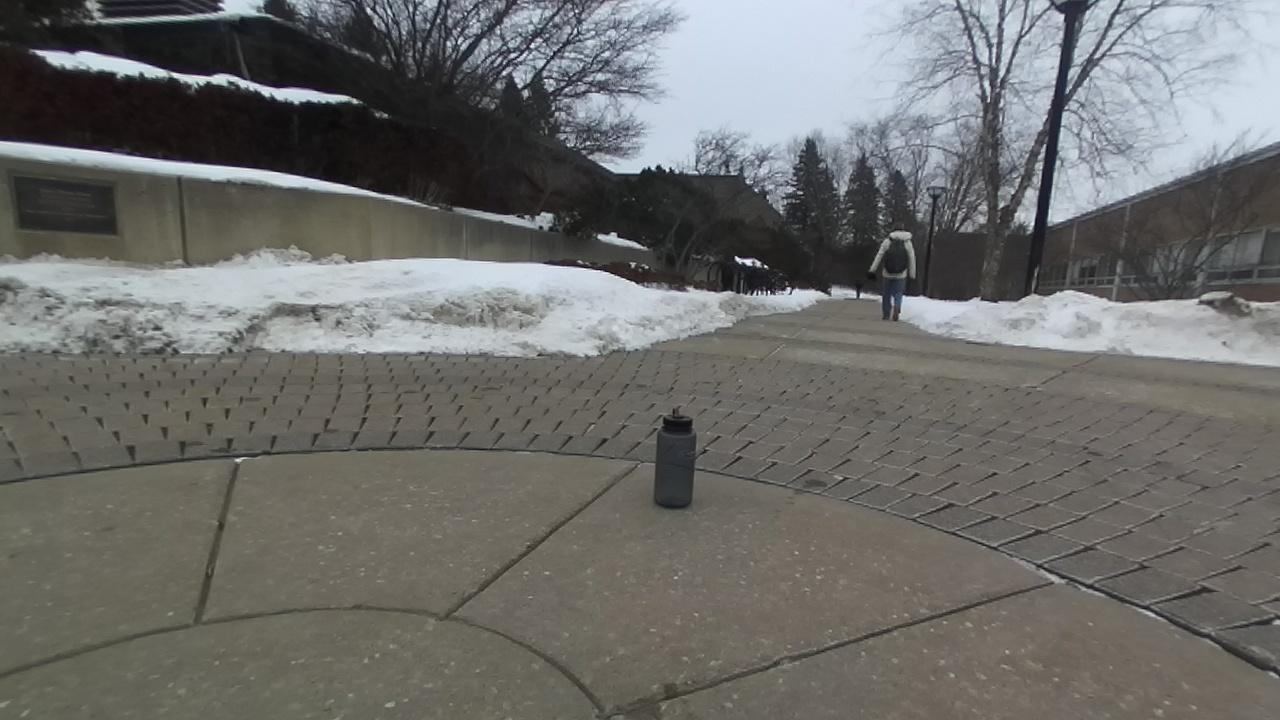bottle: (654, 411, 696, 507)
